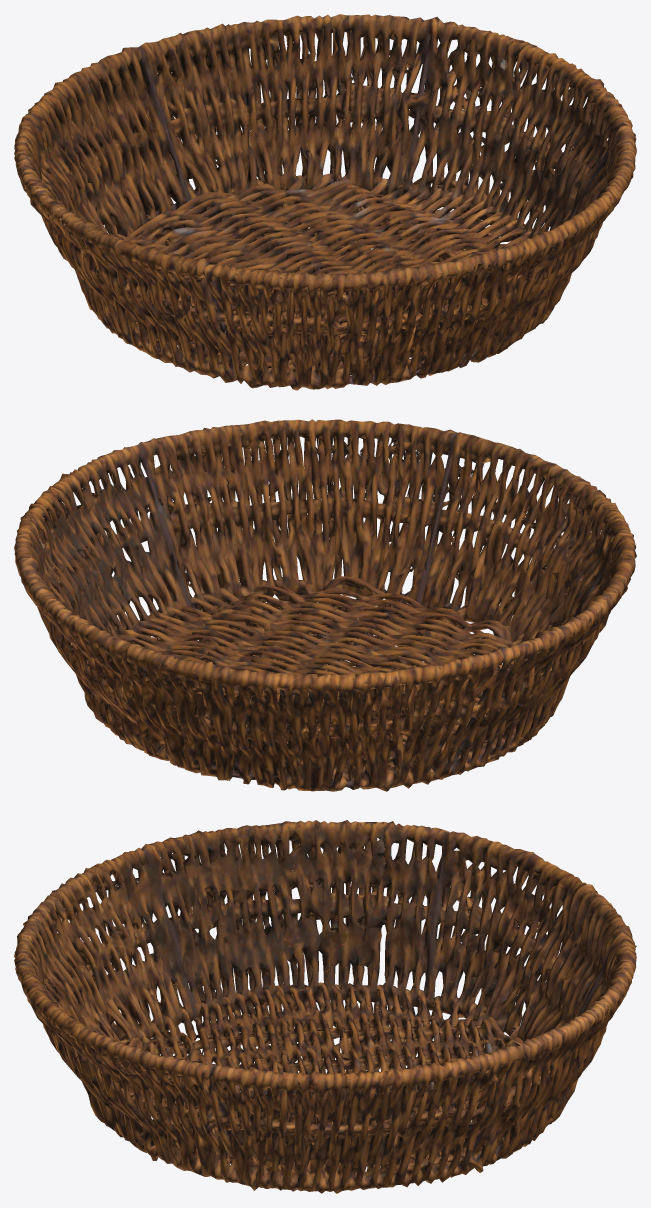
The model's file is WoodenBasket1.fbx.
3 renders of one model, top to bottom at view 1: azimuth 30°, elevation 25°; view 2: azimuth 150°, elevation 25°; view 3: azimuth 270°, elevation 25°, orthographic.
Parts seen in each view (by area): view 1: Fruit Plate; view 2: Fruit Plate; view 3: Fruit Plate.
Boxes of the visible parts, <box> form: Fruit Plate: <box>14,14,636,390</box>; Fruit Plate: <box>14,419,636,791</box>; Fruit Plate: <box>14,820,636,1193</box>.
Bounding box in the file's own units: 35.35 × 10.04 × 35.19.
1 material, 1 textured.
